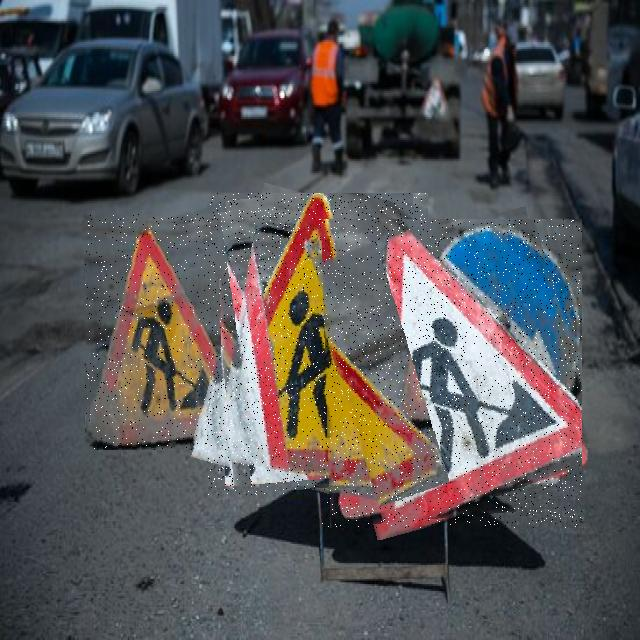roadwork: (321, 219, 582, 528), (208, 193, 428, 495), (85, 214, 255, 450)
